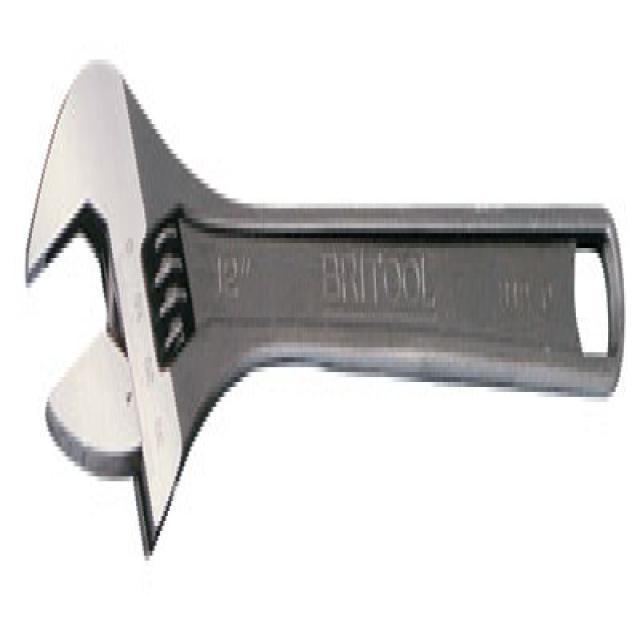wrench: (19, 43, 630, 540)
